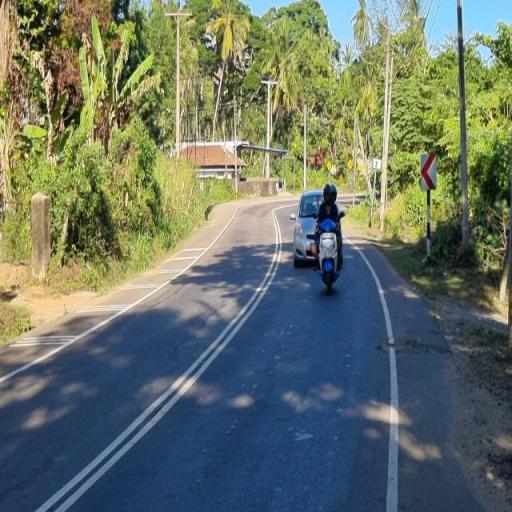double_white_line: (32, 206, 286, 510)
